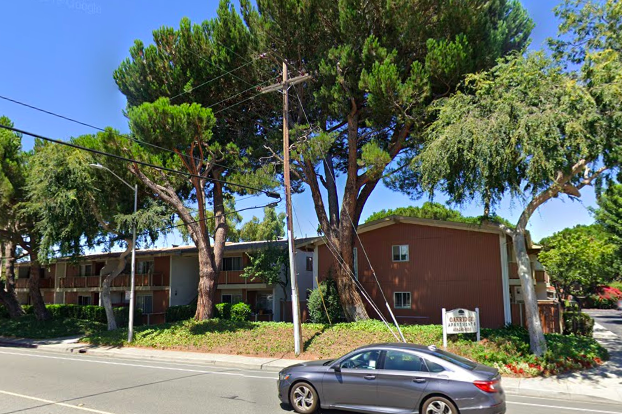utility_pole: (251, 49, 321, 122)
